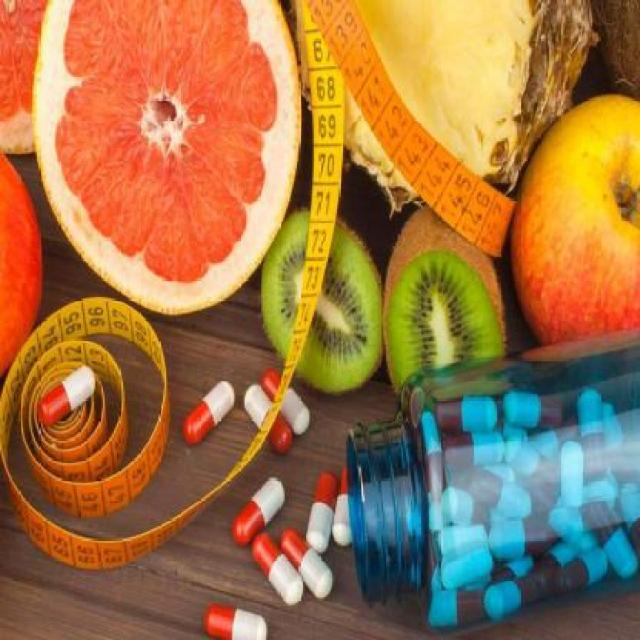B3: (175, 371, 351, 638)
